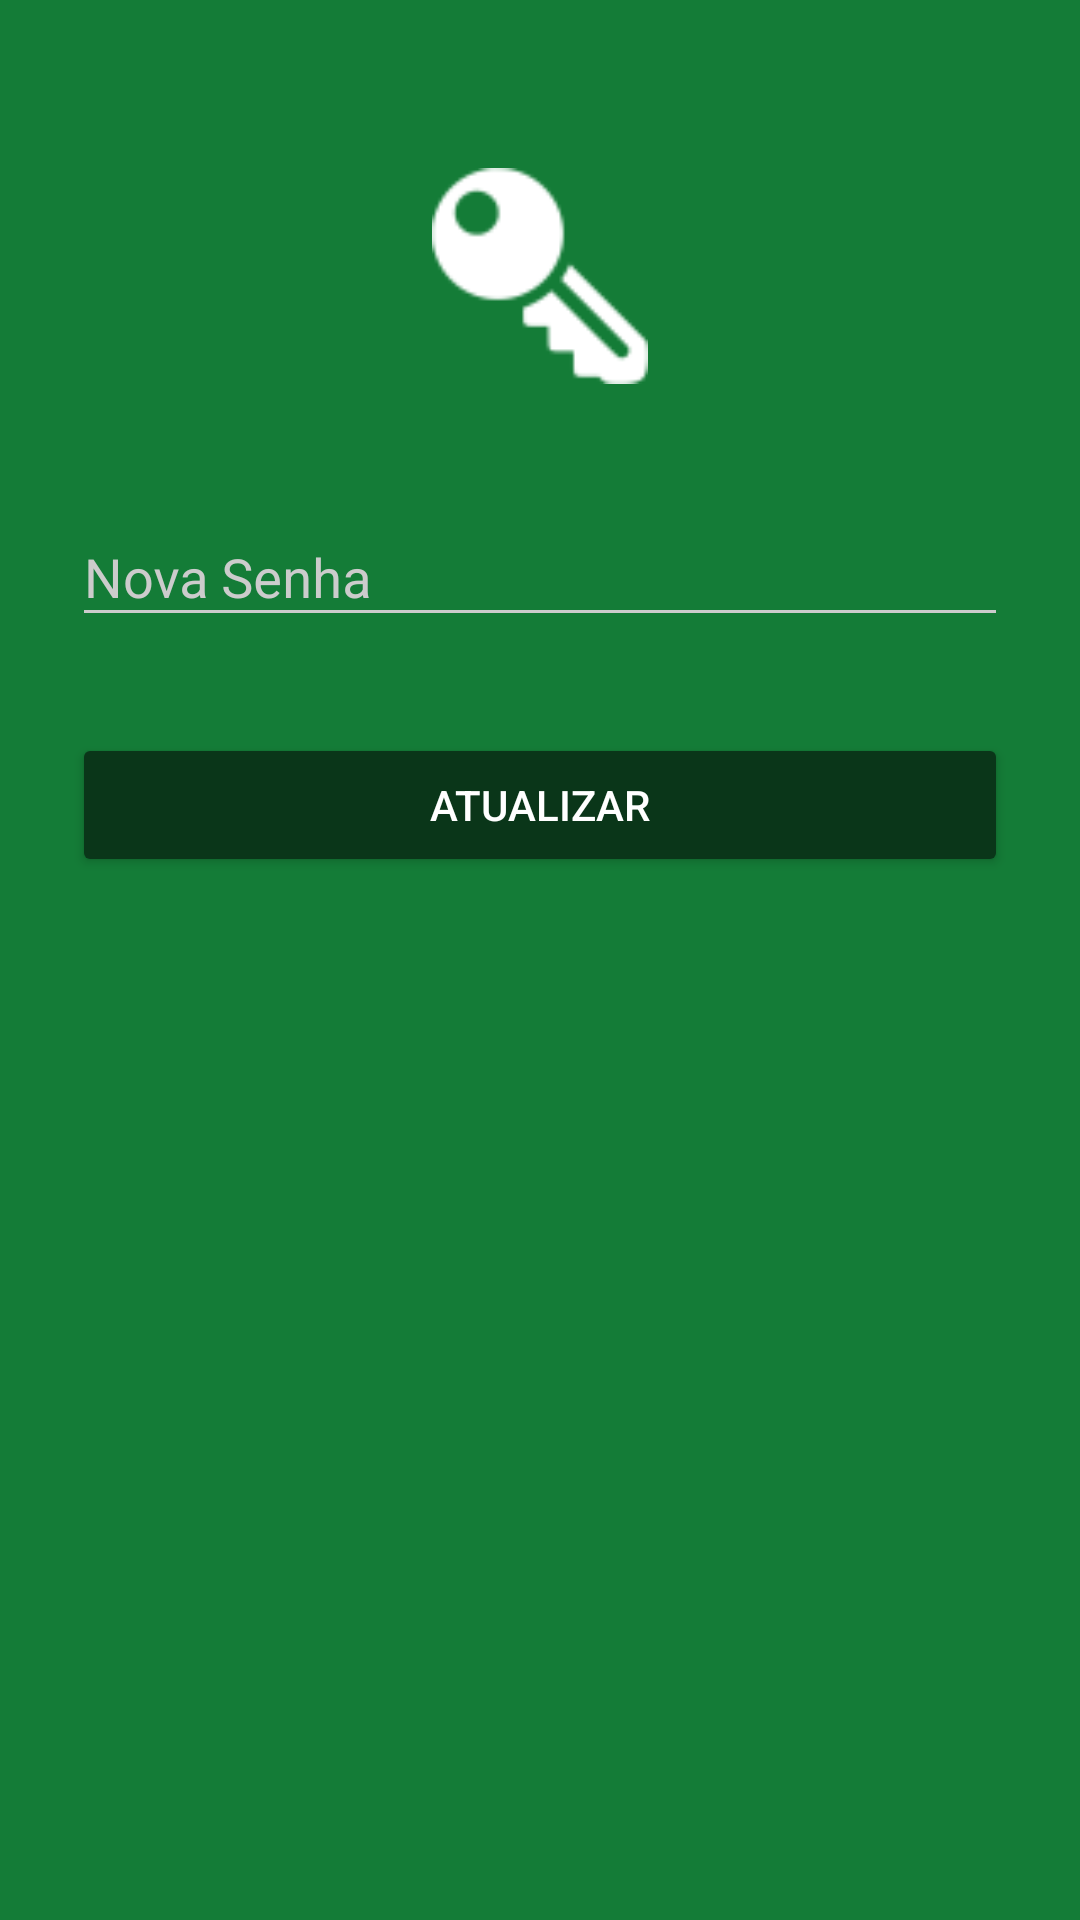

Screen size 1080w x 1920h. Icon name, then its box in pixels as detection(x1, y1, x2, y2):
chave: detection(432, 168, 648, 384)
